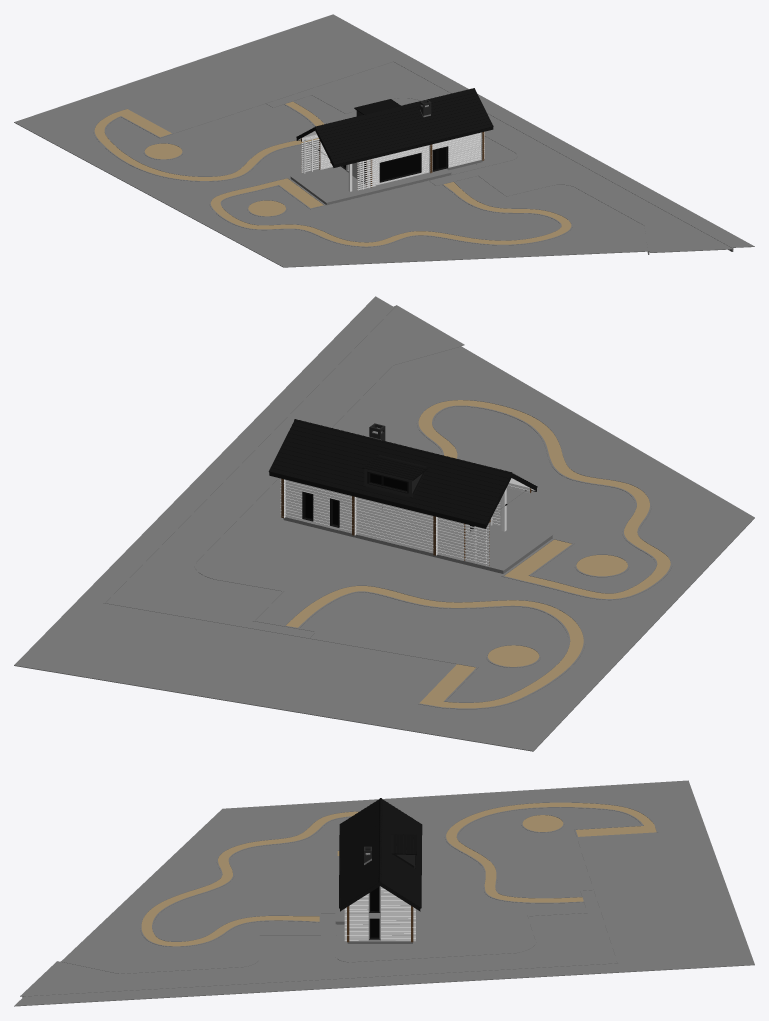
The model's file is uploads_files_3047957_dom_57.FBX.
3 renders of one model, top to bottom at view 1: azimuth 30°, elevation 25°; view 2: azimuth 150°, elevation 25°; view 3: azimuth 270°, elevation 25°, orthographic. The views are drawn at different scales.
Parts seen in each view (by area): view 1: Group4620, Group4619; view 2: Group4620, Group4619; view 3: Group4620, Group4619.
Boxes of the visible parts, left/top/right/bottom form: Group4620: left=14, top=14, right=754, bottom=267; Group4619: left=290, top=88, right=493, bottom=204; Group4620: left=14, top=296, right=754, bottom=751; Group4619: left=268, top=419, right=553, bottom=573; Group4620: left=14, top=780, right=754, bottom=1006; Group4619: left=335, top=798, right=422, bottom=943.
Bounding box in the file's own units: 1738 × 267 × 2413.
